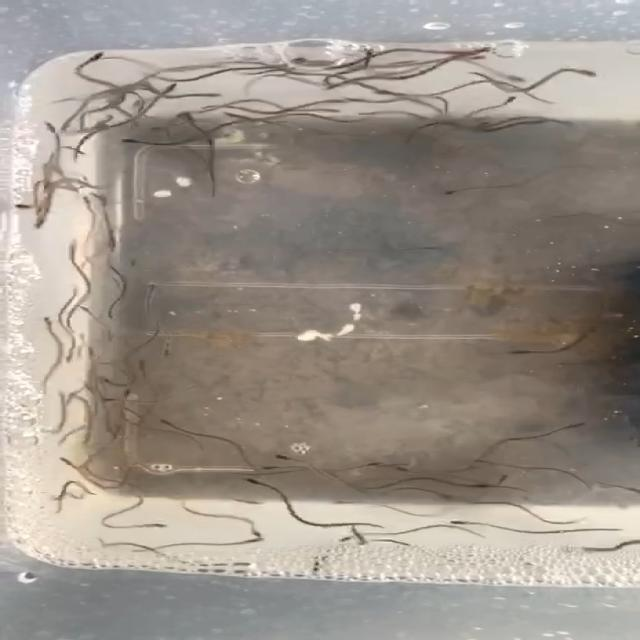inactive_glass_eel: (61, 47, 118, 63), (438, 180, 469, 202), (39, 122, 69, 144), (279, 53, 321, 68), (507, 343, 543, 358), (110, 136, 148, 150), (560, 417, 588, 432), (30, 312, 53, 329), (339, 95, 372, 106), (50, 454, 80, 466), (315, 96, 347, 107), (238, 472, 265, 485), (64, 240, 91, 253), (441, 516, 472, 527), (356, 457, 384, 469), (575, 68, 600, 81), (100, 307, 123, 321), (152, 346, 175, 360), (324, 106, 348, 119), (254, 462, 284, 472), (244, 535, 267, 548), (358, 50, 381, 63), (149, 415, 175, 426), (84, 347, 106, 360), (464, 458, 492, 468), (176, 108, 197, 121), (392, 462, 410, 477), (336, 533, 360, 544), (78, 194, 102, 205), (432, 492, 456, 503), (142, 520, 170, 529), (275, 454, 300, 464), (219, 108, 241, 119), (136, 281, 160, 291), (19, 204, 43, 214), (140, 70, 170, 78), (130, 358, 150, 370), (495, 471, 512, 485), (368, 88, 397, 96), (241, 528, 269, 536), (93, 118, 110, 131), (358, 110, 389, 117), (327, 498, 351, 507), (193, 101, 216, 110), (158, 84, 176, 95), (473, 480, 491, 491), (144, 127, 172, 134), (504, 92, 518, 106), (123, 386, 138, 398), (94, 398, 118, 404), (103, 376, 119, 385), (74, 304, 91, 312), (38, 223, 55, 231), (555, 120, 571, 128), (195, 109, 212, 116), (66, 349, 74, 362)
